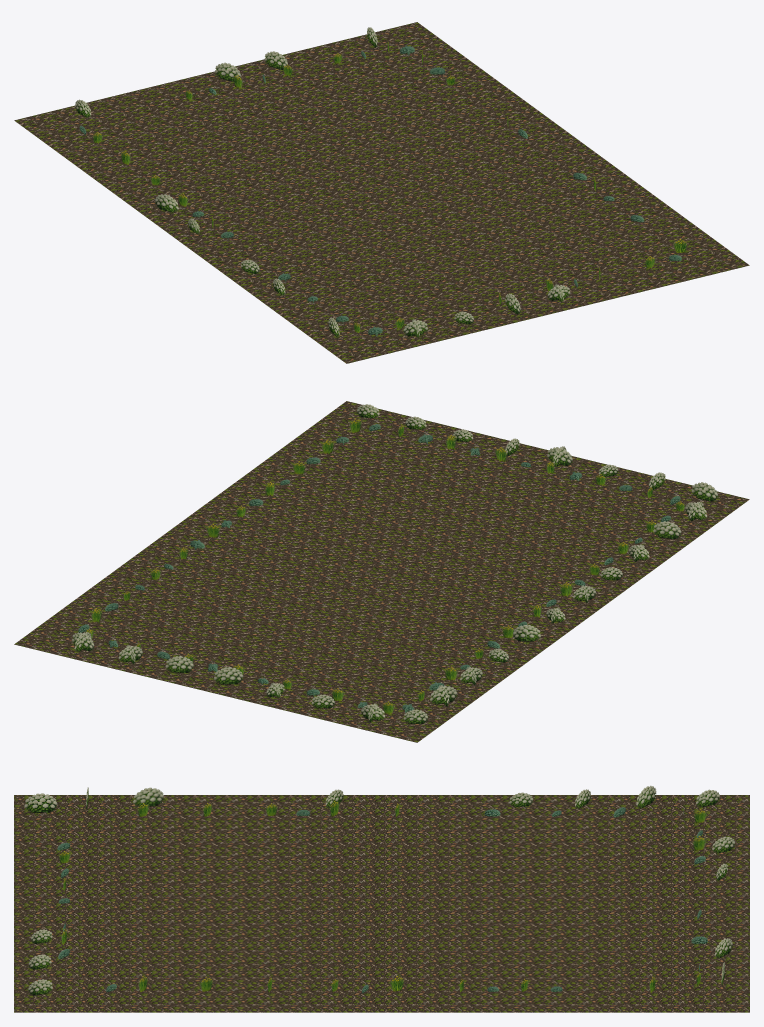
Rendered from groundcover-reflecting-pool.glb.
3 renders of one model, top to bottom at view 1: azimuth 30°, elevation 25°; view 2: azimuth 150°, elevation 25°; view 3: azimuth 270°, elevation 25°, orthographic. The views are drawn at different scales.
Visible parts, largest first — view 1: groundcover-soil, groundcover-plants; view 2: groundcover-soil, groundcover-plants; view 3: groundcover-soil, groundcover-plants.
Boxes of the visible parts, box(x1,y1,x2,y2) form: groundcover-soil: box(14, 22, 749, 363); groundcover-plants: box(75, 27, 687, 338); groundcover-soil: box(14, 401, 749, 742); groundcover-plants: box(72, 404, 717, 723); groundcover-soil: box(14, 795, 749, 1012); groundcover-plants: box(24, 785, 735, 995).
Bounding box in the file's own units: 21 × 1.37 × 30.
Materials: 2 (2 with a texture image).
